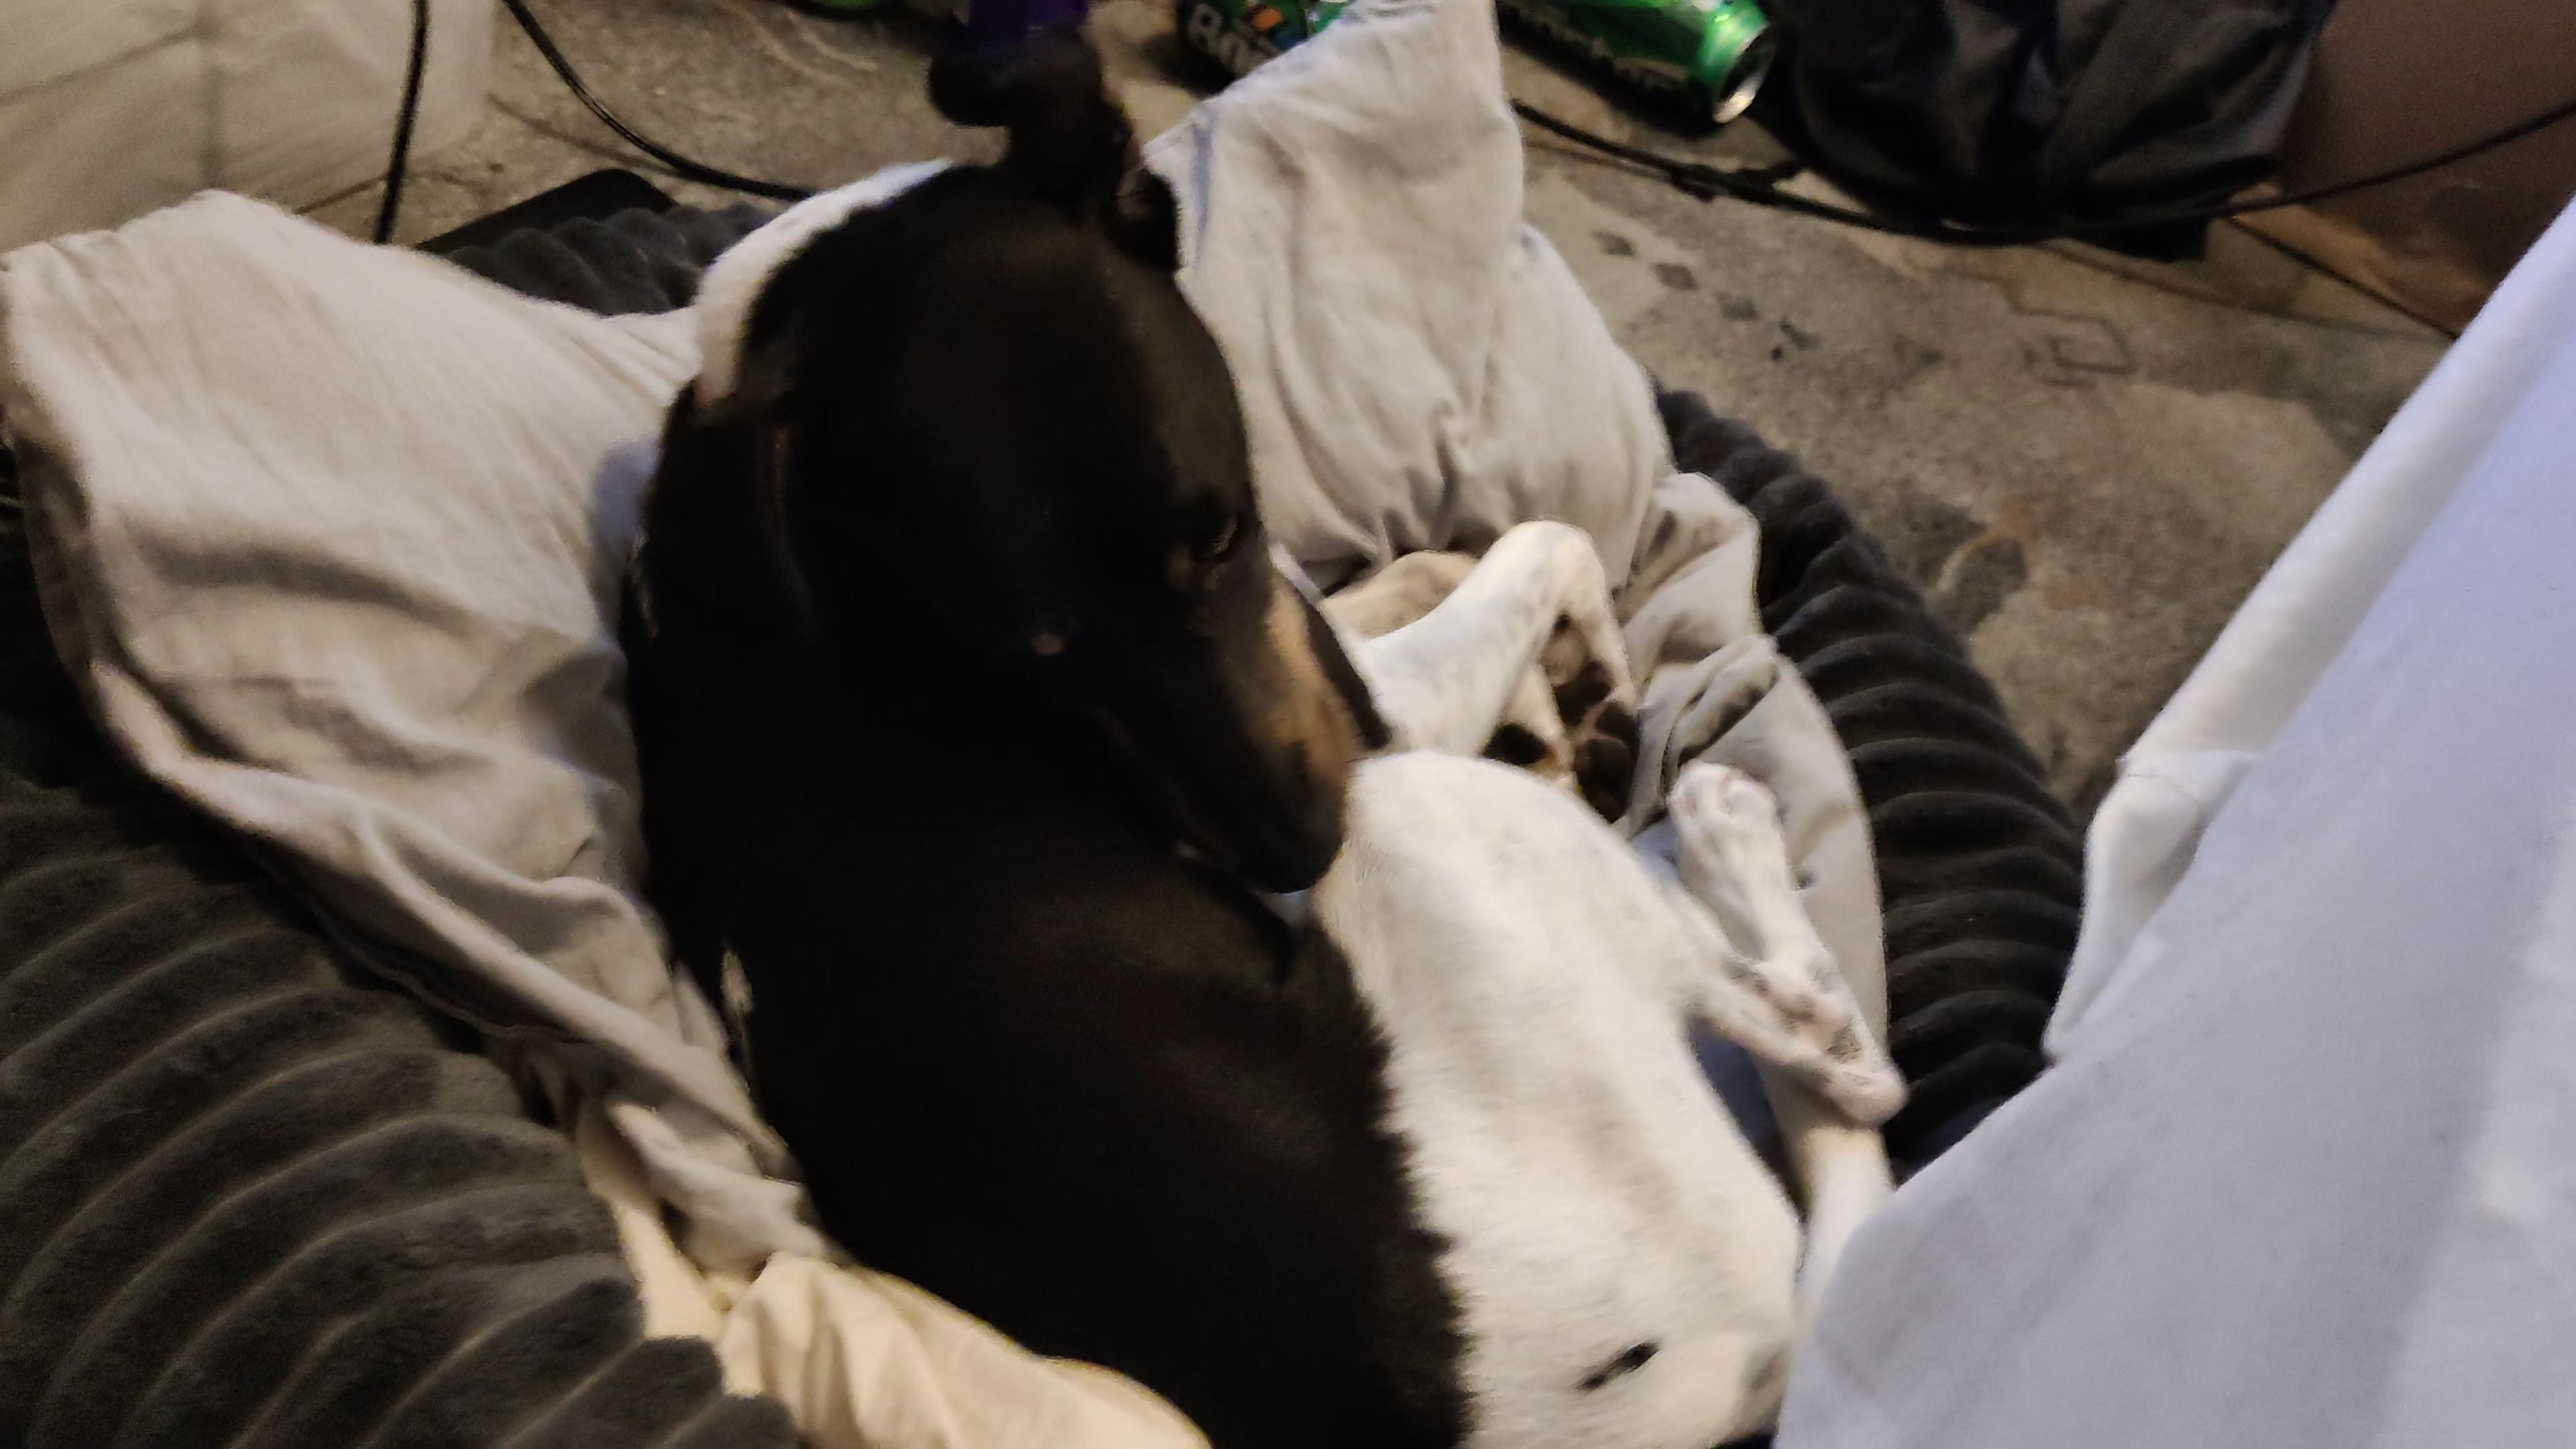Dog: (593, 0, 1951, 1449)
